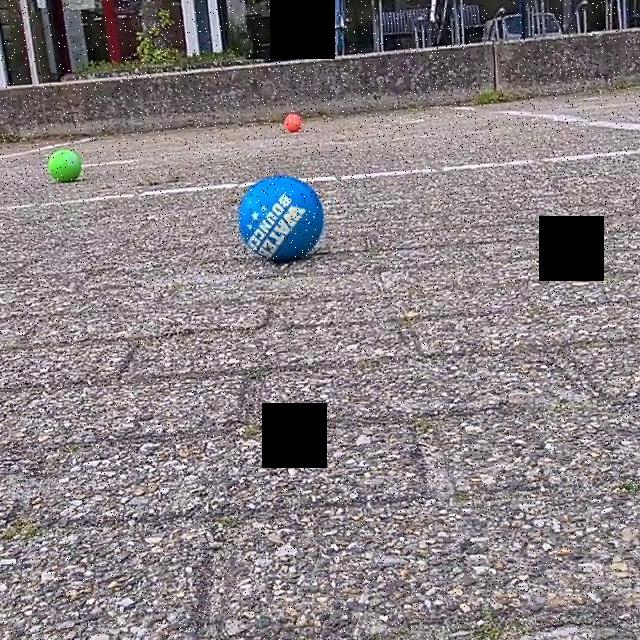ball: (44, 145, 84, 186), (282, 110, 304, 135)
